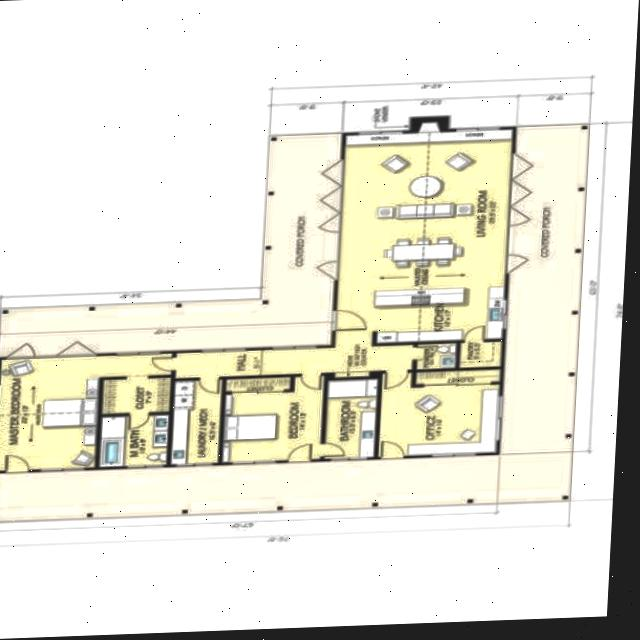room: (169, 129, 521, 376), (0, 354, 175, 470), (376, 370, 501, 455), (219, 375, 327, 460), (171, 376, 222, 466), (326, 376, 377, 459), (98, 414, 171, 465), (102, 376, 170, 413), (416, 342, 458, 368), (459, 341, 502, 366)
